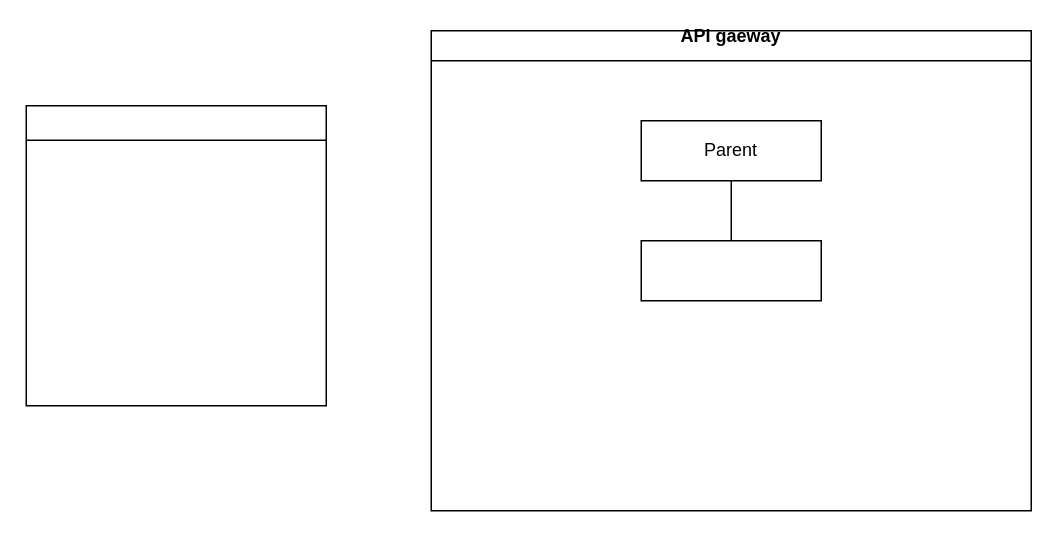
The diagram is 1058 pixels wide and 537 high, and some of its shapes have lost their labels. The shapes that lost their labels are listed below. From the top down, each one's centre as x and y in pixels, then its label:
At point 175,255: "app".
At point 730,270: "Child".
